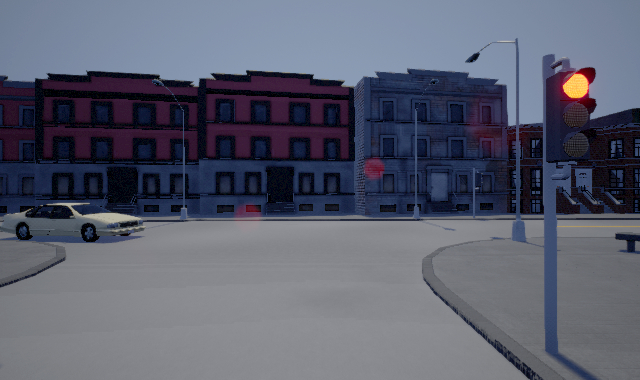traffic_light: (546, 65, 598, 161)
vehicle: (1, 203, 146, 242)
